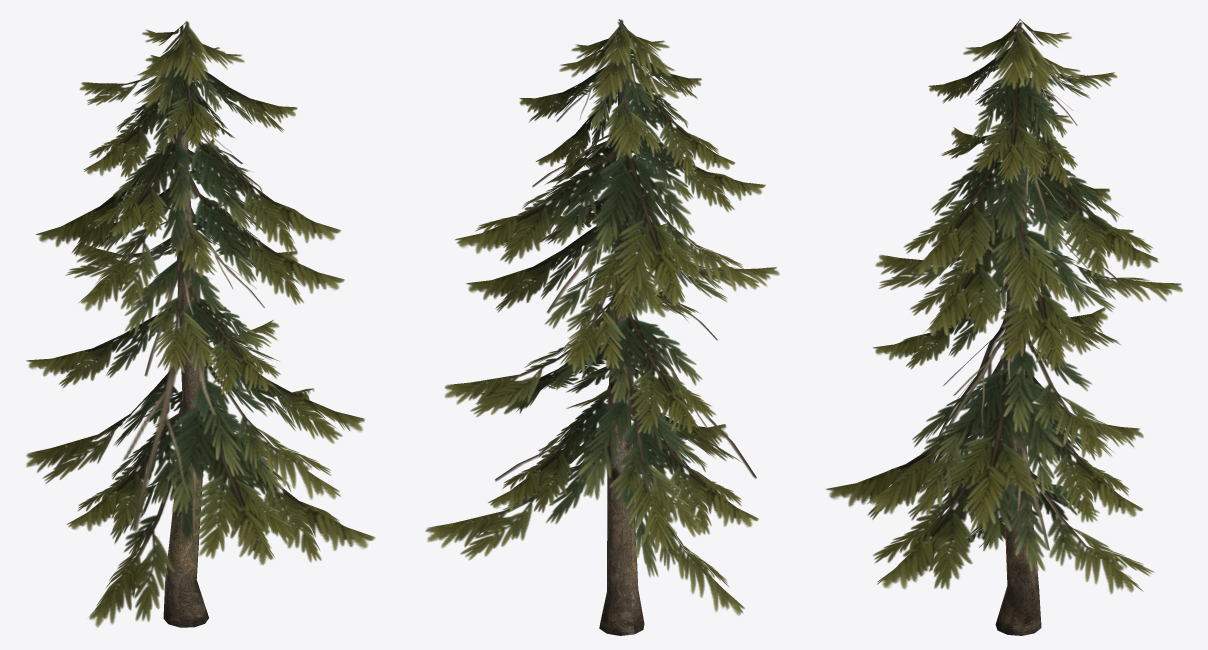
File: fire-large-1.glb
3 views of the same model, side by side, from view 1: azimuth 30°, elevation 25°; view 2: azimuth 150°, elevation 25°; view 3: azimuth 270°, elevation 25° (orthographic).
Parts seen in each view (by area): view 1: Branches002, Tree_bark002; view 2: Branches002, Tree_bark002; view 3: Branches002, Tree_bark002.
Part boxes in pixels (x1,y1,x2,y2): Branches002: (26, 21, 375, 627); Tree_bark002: (163, 33, 208, 627); Branches002: (425, 19, 779, 615); Tree_bark002: (599, 29, 644, 635); Branches002: (825, 19, 1182, 594); Tree_bark002: (995, 28, 1041, 635).
Bounding box in the file's own units: 369 × 709 × 395.
2 materials, 2 textured.
